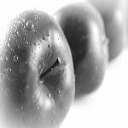apple: (0, 8, 75, 128)
